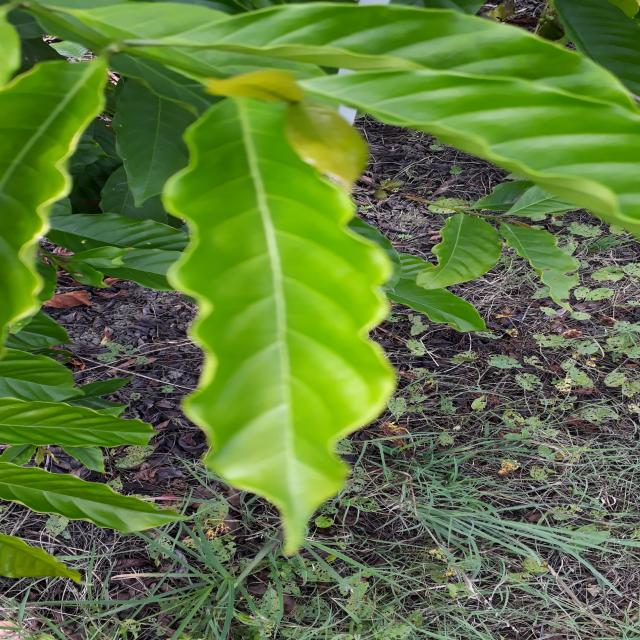Sanas: (160, 99, 399, 557)
